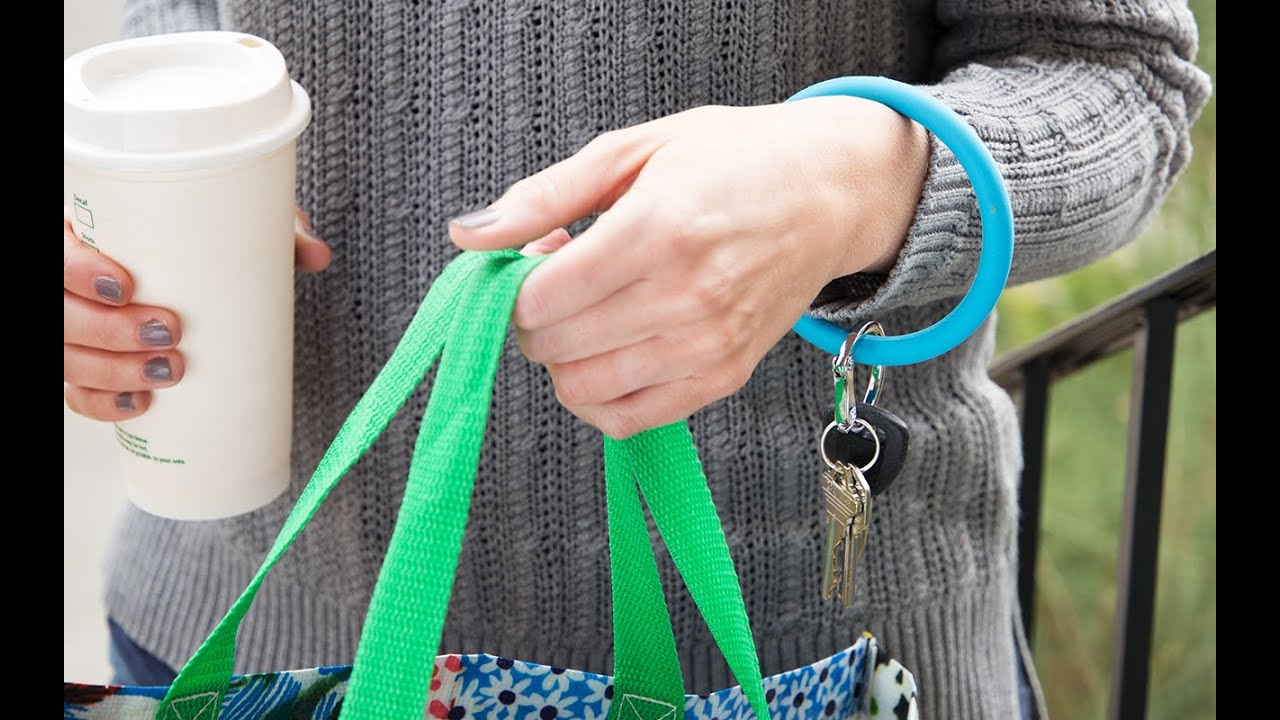keys: (815, 313, 913, 624)
